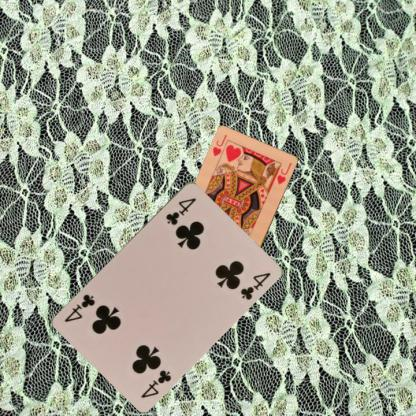4c: (138, 366, 173, 400), (163, 195, 198, 226)
Jh: (210, 132, 228, 158)
